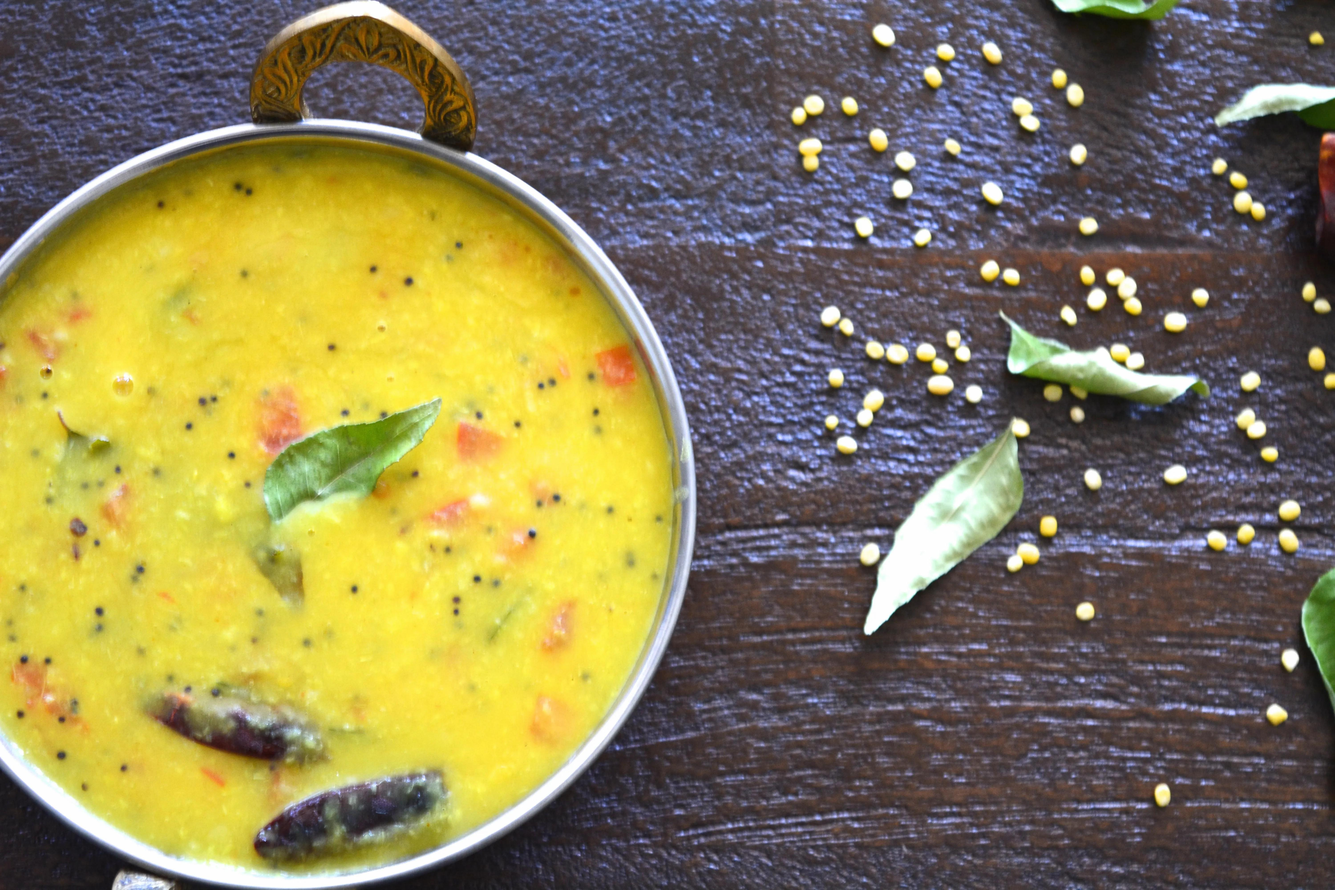Dal: (0, 145, 671, 871)
